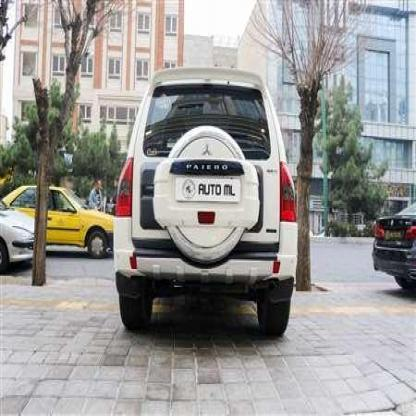Car: (109, 62, 289, 342), (6, 172, 119, 269), (362, 196, 416, 298), (0, 198, 31, 282)
